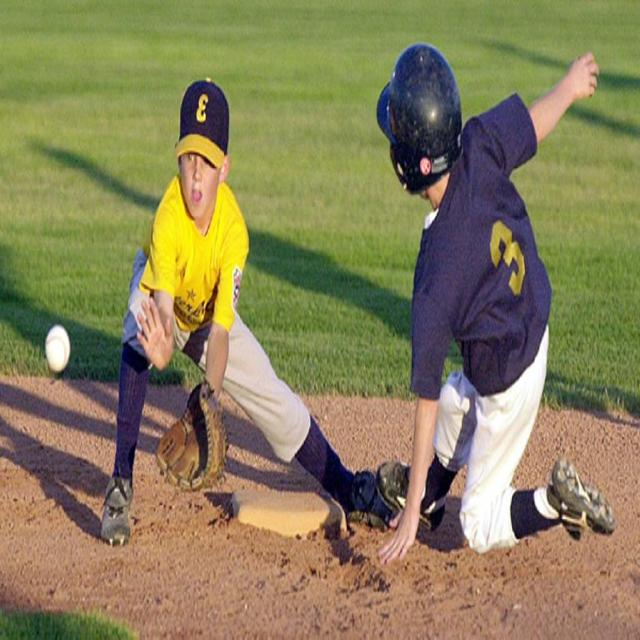Face: (180, 141, 220, 224)
